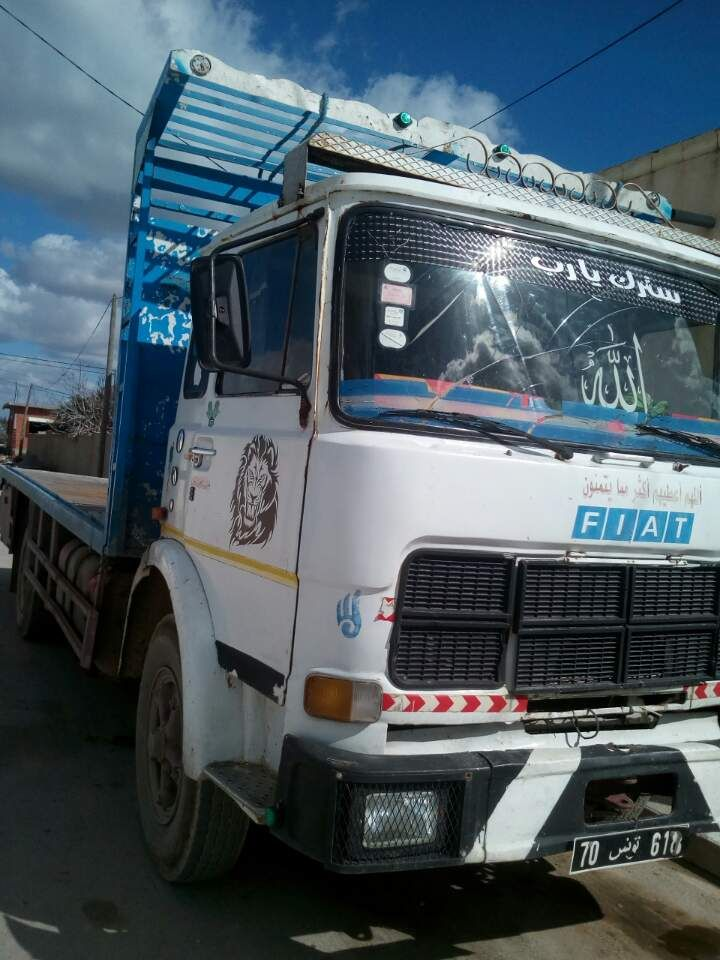LP: (569, 826, 691, 876)
